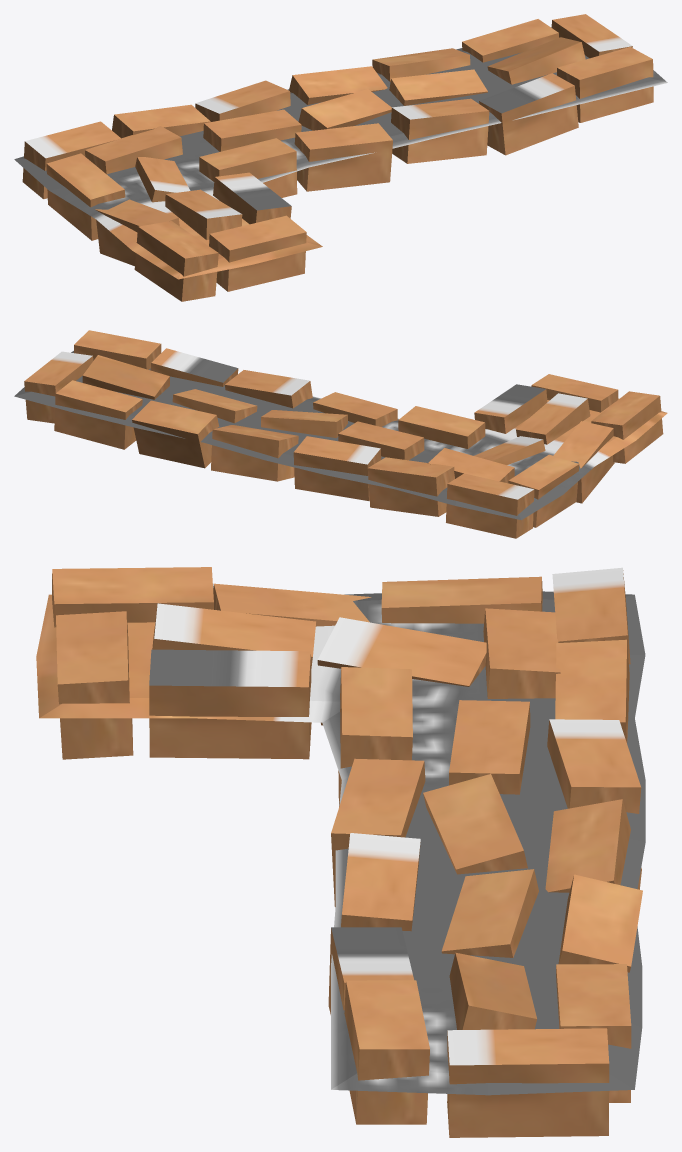
The model's file is Brick_Wall_L_Destructed.fbx.
3 views of the same model, one above another, from view 1: azimuth 30°, elevation 25°; view 2: azimuth 150°, elevation 25°; view 3: azimuth 270°, elevation 25° (orthographic). The views are drawn at different scales.
Parts seen in each view (by area): view 1: Brick_Wall_L_Destructed; view 2: Brick_Wall_L_Destructed; view 3: Brick_Wall_L_Destructed.
Part boxes in pixels (<box>): Brick_Wall_L_Destructed: <box>14,14,667,301</box>; Brick_Wall_L_Destructed: <box>14,330,667,538</box>; Brick_Wall_L_Destructed: <box>36,567,645,1137</box>.
Bounding box in the file's own units: 4.08 × 0.4301 × 2.08.
